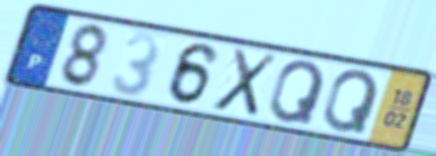3: (110, 30, 165, 98)
6: (164, 41, 220, 108)
8: (58, 22, 112, 90)
Q: (266, 59, 328, 128), (320, 68, 382, 137)
X: (209, 46, 282, 120)
